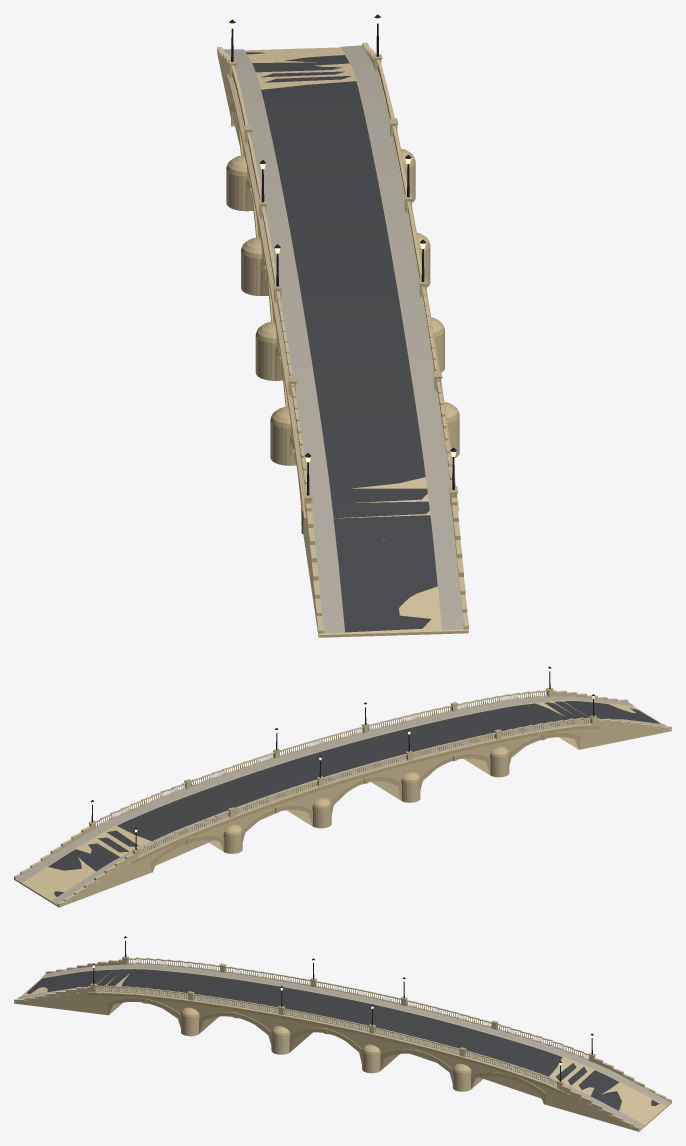
File: serpentine_bridge.glb
The picture shows the model from 3 angles, top to bottom: view 1: azimuth 30°, elevation 25°; view 2: azimuth 150°, elevation 25°; view 3: azimuth 270°, elevation 25°; orthographic projection. The views are drawn at different scales.
Size of the model in its own units: 64.01 by 13.83 by 114.
